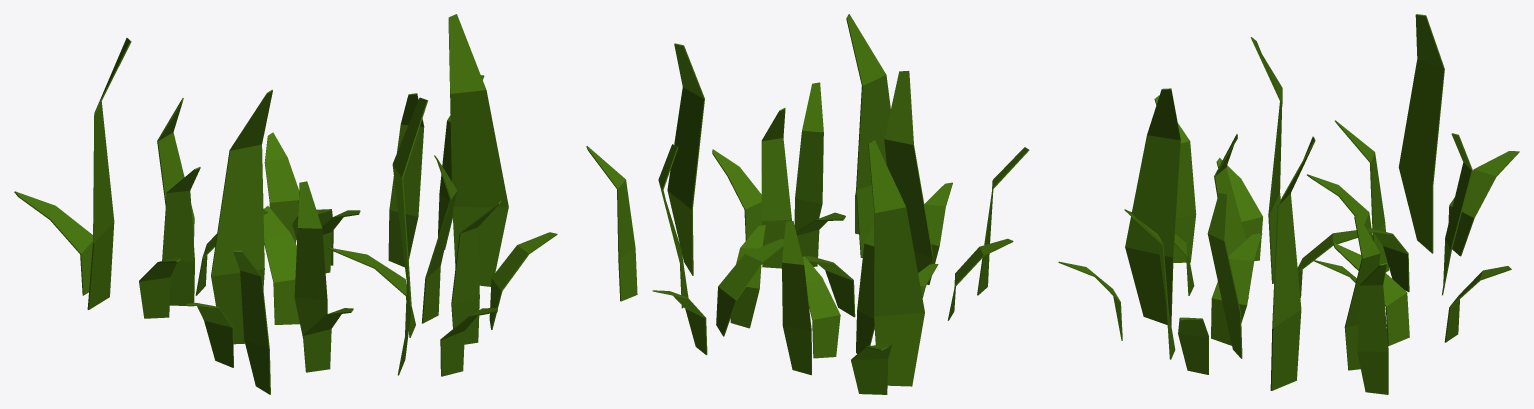
The model's file is Grass.fbx.
3 views of the same model, side by side, from view 1: azimuth 30°, elevation 25°; view 2: azimuth 150°, elevation 25°; view 3: azimuth 270°, elevation 25° (orthographic). The views are drawn at different scales.
Visible parts, largest first — view 1: Plane.007; view 2: Plane.007; view 3: Plane.007.
Part boxes in pixels (x1,y1,x2,y2): Plane.007: (14, 14, 557, 394); Plane.007: (586, 14, 1029, 394); Plane.007: (1058, 14, 1519, 394).
Size of the model in its own units: 0.6226 by 0.6603 by 0.3887.
1 material, 1 textured.
